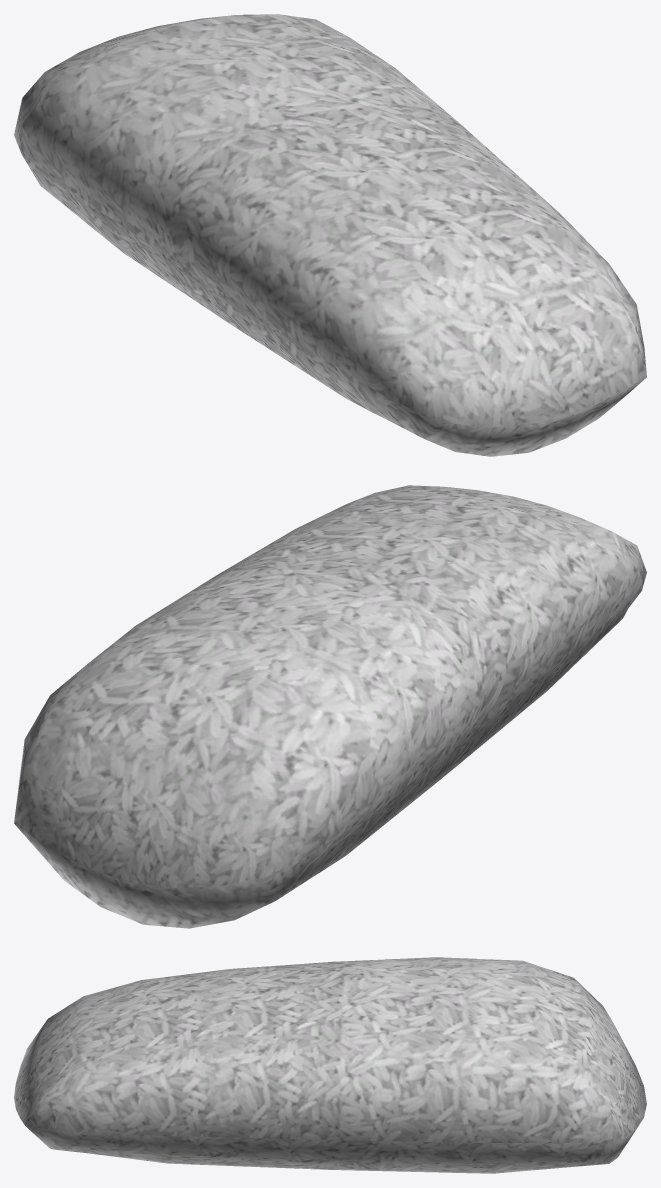
Rendered from Rice_InBurrito.fbx.
The picture shows the model from 3 angles, top to bottom: view 1: azimuth 30°, elevation 25°; view 2: azimuth 150°, elevation 25°; view 3: azimuth 270°, elevation 25°; orthographic projection. The views are drawn at different scales.
Parts seen in each view (by area): view 1: Rice_InBurrito; view 2: Rice_InBurrito; view 3: Rice_InBurrito.
Boxes of the visible parts, x1,y1,x2,y2 form: Rice_InBurrito: (14, 14, 646, 456); Rice_InBurrito: (14, 485, 646, 928); Rice_InBurrito: (14, 957, 646, 1173).
Bounding box in the file's own units: 0.3296 × 0.2281 × 0.7578.
